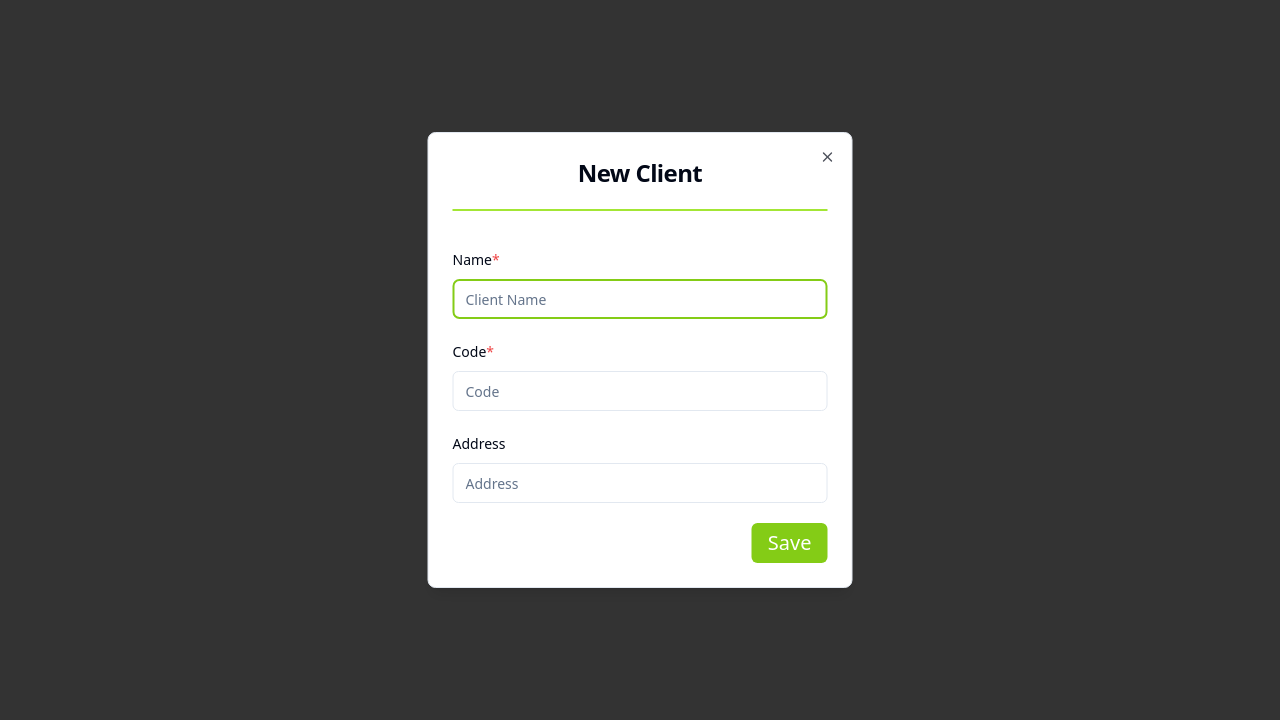
Test case: Client component › shows message on invalid form submit
The image size is (1280, 720).
Click the button "Save" at x=790, y=543, box [752,523,828,563]
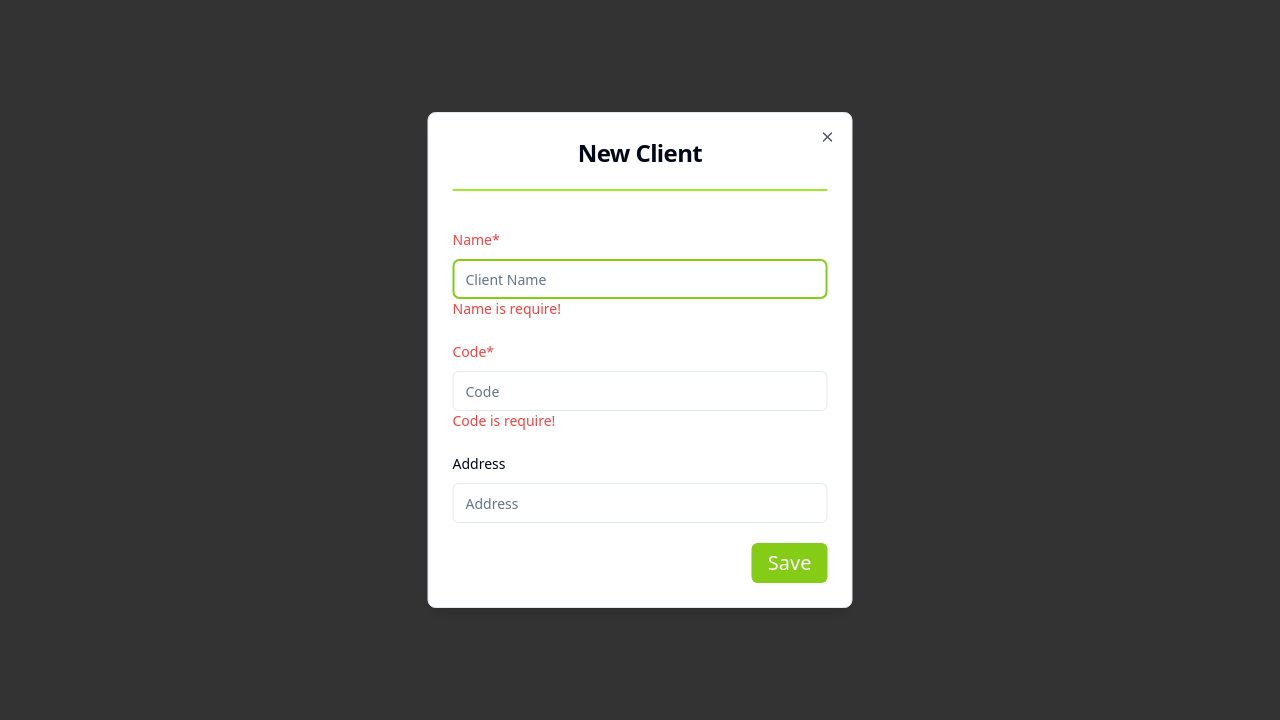
Expected: the text "Name is require!" is shown, [452,299,561,318]
Expected: the text "Code is require!" is shown, [452,411,555,430]
